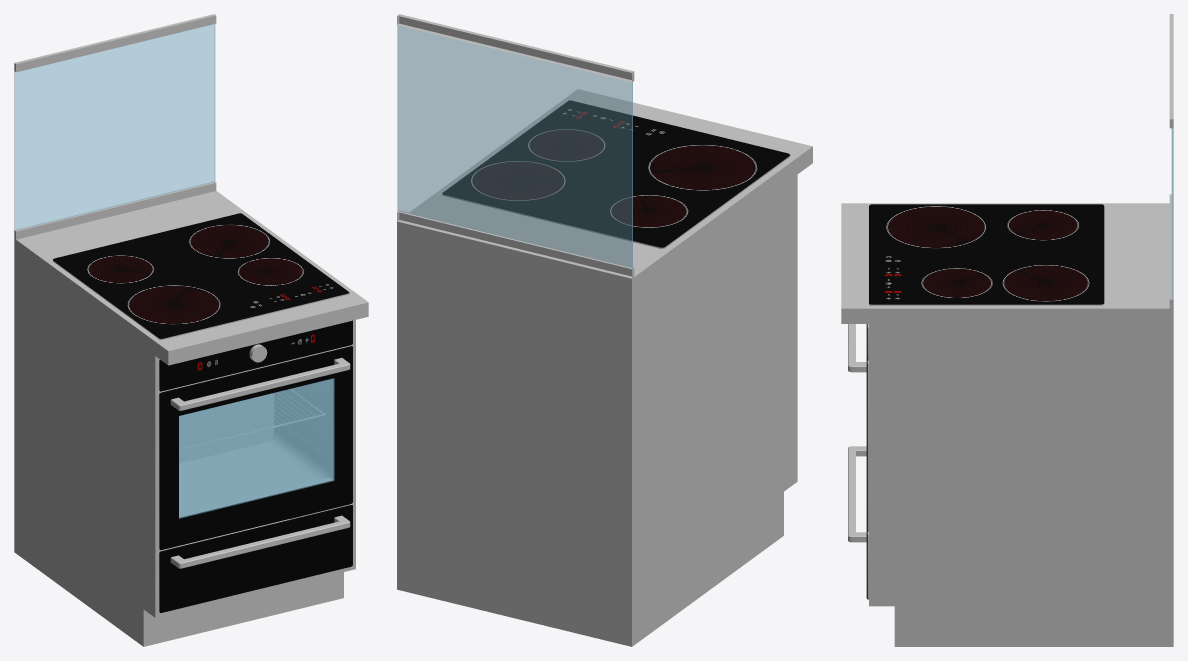
File: Kitchen_Drawer_06.FBX
3 views of the same model, side by side, from view 1: azimuth 30°, elevation 25°; view 2: azimuth 150°, elevation 25°; view 3: azimuth 270°, elevation 25° (orthographic). The views are drawn at different scales.
Visible parts, largest first — view 1: Kitchen_Drawer_06, Credenza, Furnace_Door_A, Vitroceramic, Furnace_Door_B, Grid; view 2: Kitchen_Drawer_06, Credenza, Vitroceramic; view 3: Kitchen_Drawer_06, Vitroceramic, Credenza, Furnace_Door_B, Furnace_Door_A.
Boxes of the visible parts, <box> form: Kitchen_Drawer_06: <box>14,191,368,646</box>; Credenza: <box>14,14,216,239</box>; Furnace_Door_A: <box>159,345,352,550</box>; Vitroceramic: <box>52,213,349,339</box>; Furnace_Door_B: <box>159,504,352,612</box>; Grid: <box>179,389,324,450</box>; Kitchen_Drawer_06: <box>397,89,812,646</box>; Credenza: <box>397,14,634,278</box>; Vitroceramic: <box>442,100,790,248</box>; Kitchen_Drawer_06: <box>841,203,1173,646</box>; Vitroceramic: <box>869,204,1104,305</box>; Credenza: <box>1169,14,1173,308</box>; Furnace_Door_B: <box>848,446,868,599</box>; Furnace_Door_A: <box>848,324,868,531</box>.
Bounding box in the file's own units: 0.7498 × 1.75 × 1.
